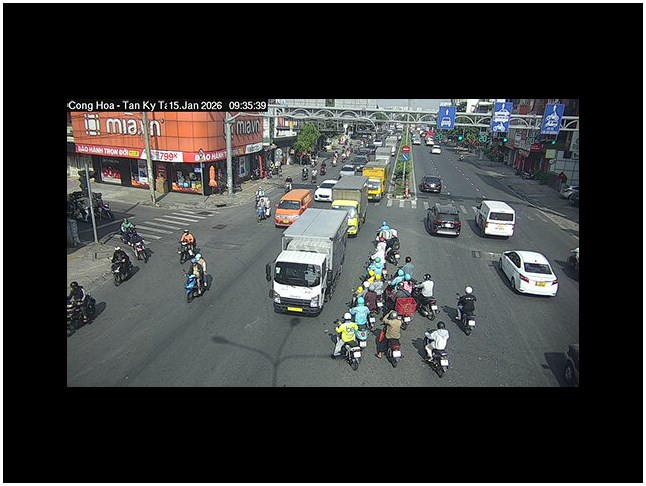bus: (267, 207, 353, 316)
car: (494, 249, 559, 296), (273, 189, 315, 229), (475, 200, 517, 239), (423, 203, 463, 238), (419, 174, 443, 194), (312, 186, 333, 204)
motorbike: (182, 259, 213, 303), (112, 251, 139, 286)
